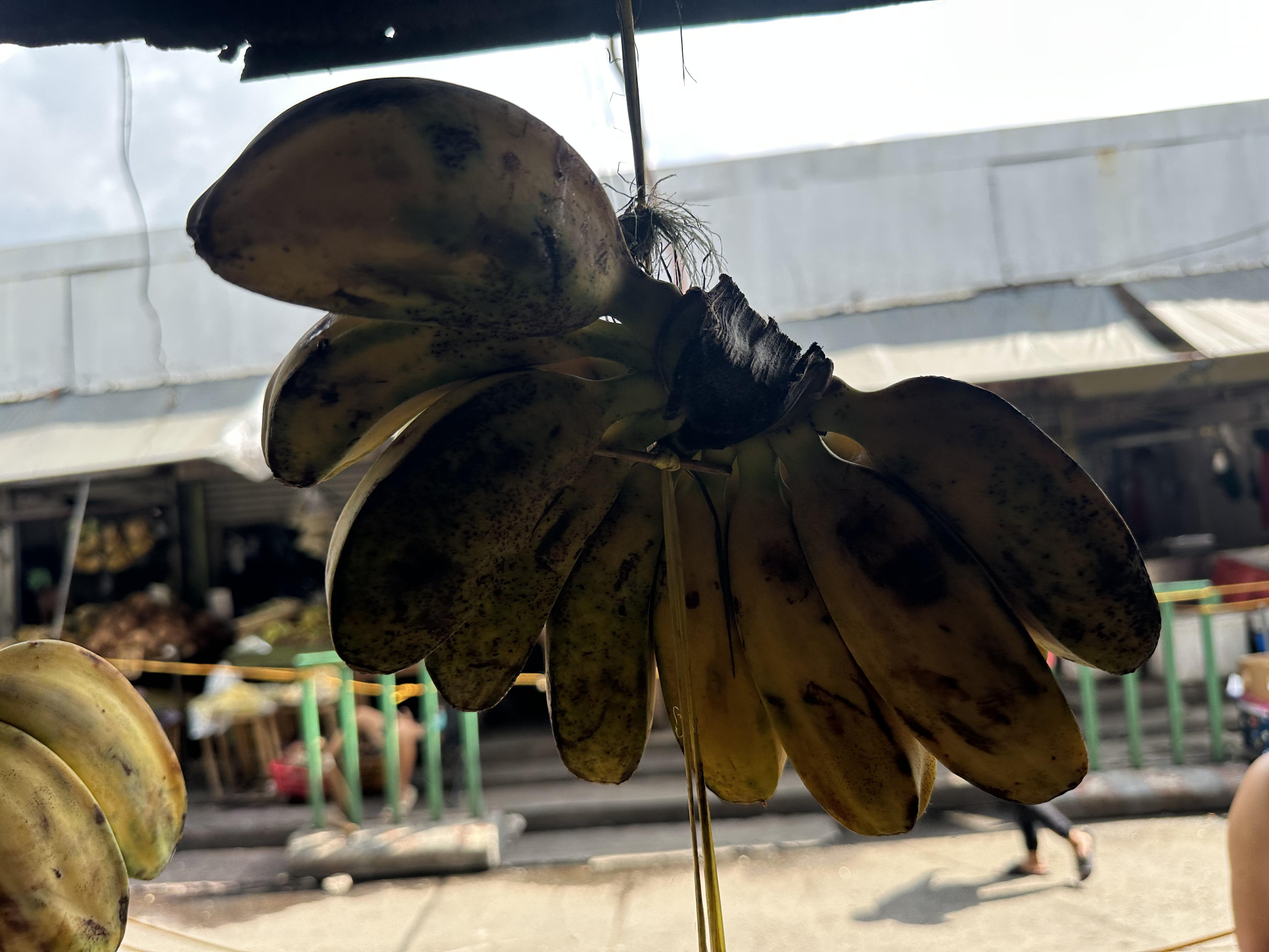underripe: (186, 76, 678, 789), (674, 378, 1161, 834)
